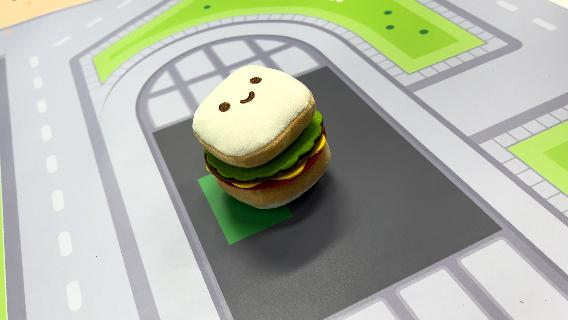sandwich: (191, 63, 333, 211)
